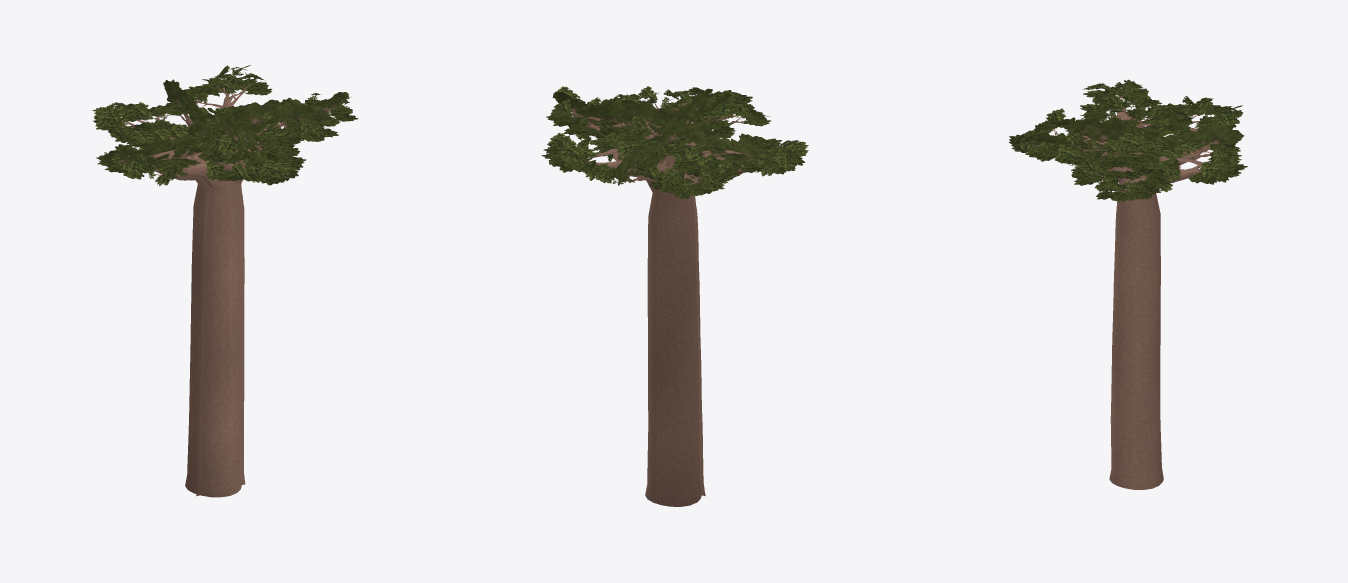
Rendered from Baoba_04_Grandidieri_Alameda.glb.
3 renders of one model, left to right at view 1: azimuth 30°, elevation 25°; view 2: azimuth 150°, elevation 25°; view 3: azimuth 270°, elevation 25°, orthographic. The views are drawn at different scales.
Visible parts, largest first — view 1: Baoba_04_Grandidieri_Alameda impostor, Tronco, Tufos da copa, Folhas palmadas, Bracos principais; view 2: Baoba_04_Grandidieri_Alameda impostor, Tronco, Tufos da copa, Folhas palmadas; view 3: Tronco, Baoba_04_Grandidieri_Alameda impostor, Tufos da copa, Folhas palmadas.
Part boxes in pixels (<box>): Baoba_04_Grandidieri_Alameda impostor: <box>92,77,358,496</box>; Tronco: <box>185,180,241,497</box>; Tufos da copa: <box>94,65,350,186</box>; Folhas palmadas: <box>104,69,347,180</box>; Bracos principais: <box>154,152,246,188</box>; Baoba_04_Grandidieri_Alameda impostor: <box>541,88,808,503</box>; Tronco: <box>645,189,701,506</box>; Tufos da copa: <box>547,86,808,194</box>; Folhas palmadas: <box>557,92,796,192</box>; Tronco: <box>1109,184,1163,489</box>; Baoba_04_Grandidieri_Alameda impostor: <box>1009,86,1247,480</box>; Tufos da copa: <box>1011,79,1242,193</box>; Folhas palmadas: <box>1039,84,1236,192</box>.
Size of what is drawn, in the model's own units: 27.21 by 27.21 by 27.21.
Materials: 4 (4 with a texture image).
